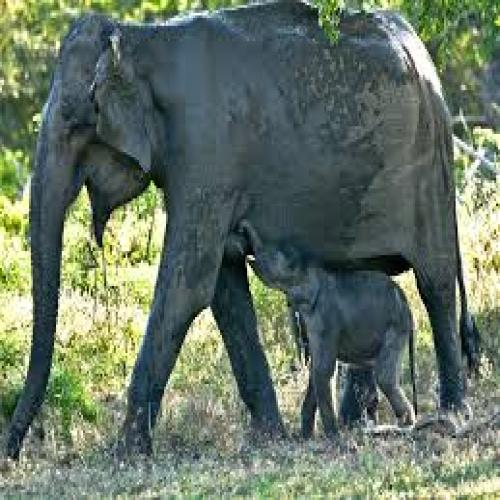asian_elephant-endangered: (0, 5, 481, 446), (236, 221, 419, 426)
